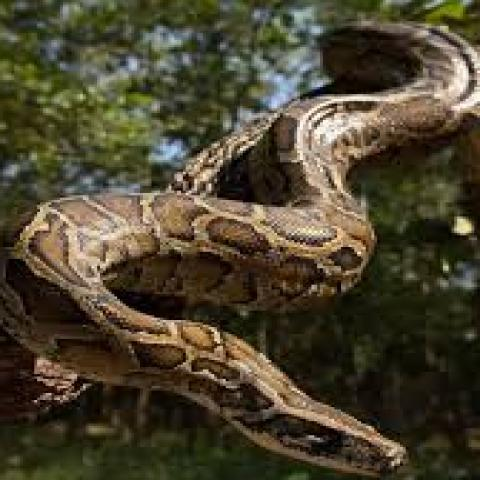snake: (0, 2, 480, 480)
